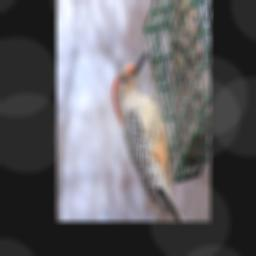Woodpecker: (112, 51, 180, 220)
